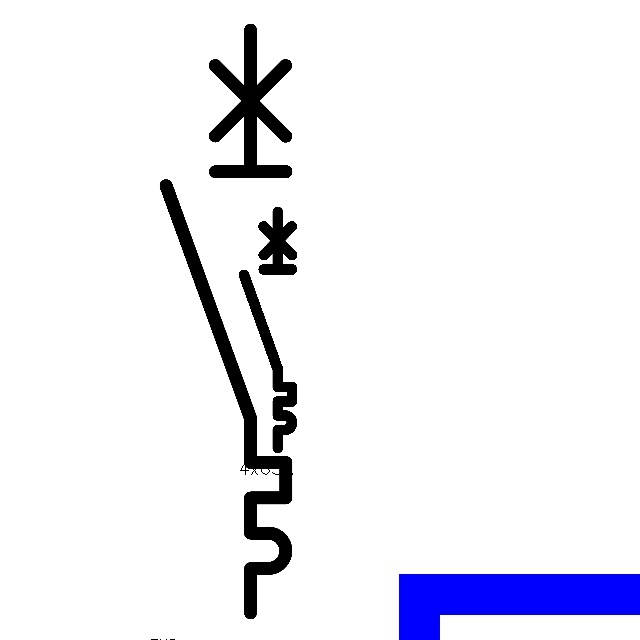interruptor_termomagnetico: (151, 15, 301, 628), (238, 206, 298, 454)
